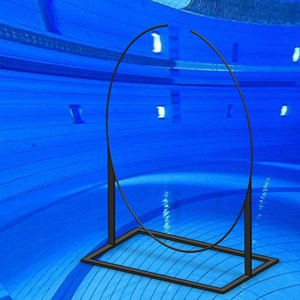circle: (80, 23, 281, 296)
